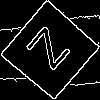Z: (25, 25, 80, 79)
